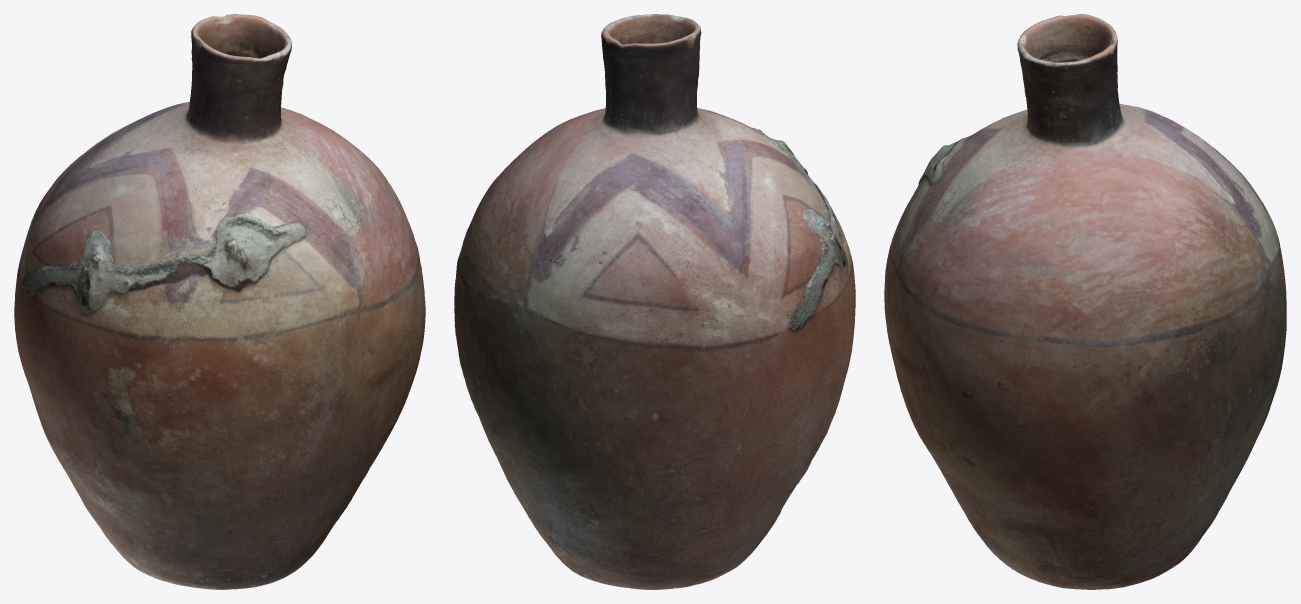
Rendered from jarron-cerrodeoro.glb.
The picture shows the model from 3 angles, left to right: view 1: azimuth 30°, elevation 25°; view 2: azimuth 150°, elevation 25°; view 3: azimuth 270°, elevation 25°; orthographic projection.
Visible parts, largest first — view 1: obj1; view 2: obj1; view 3: obj1.
Part boxes in pixels (x1=…): obj1: x1=14, y1=14, x2=425, y2=589; obj1: x1=454, y1=14, x2=855, y2=589; obj1: x1=884, y1=14, x2=1286, y2=589.
Size of the model in its own units: 2.1 by 2.99 by 2.07.
1 material, 1 textured.
